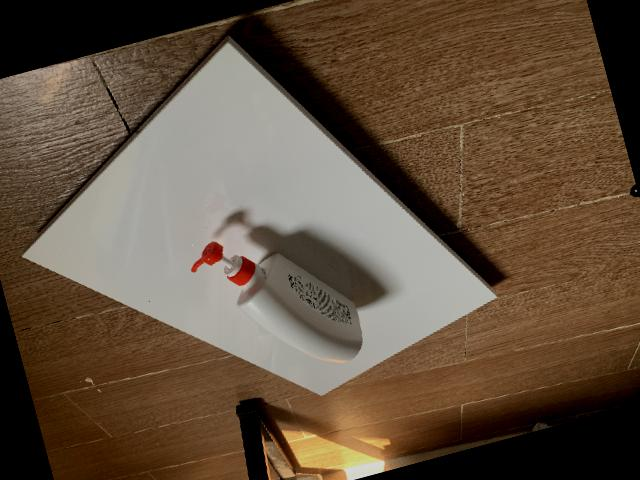life-buoy: (189, 239, 361, 361)
